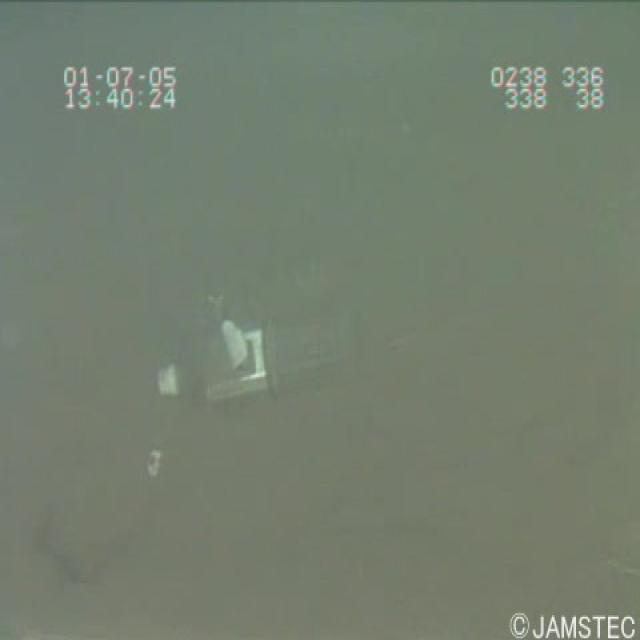plastic: (142, 294, 366, 428)
